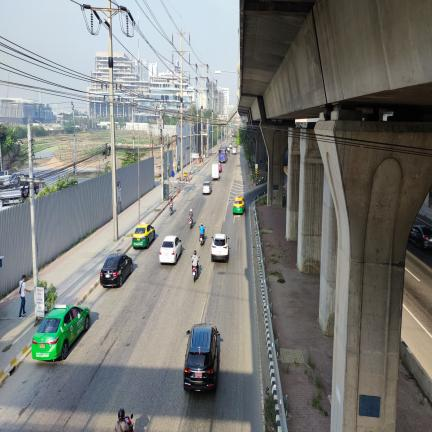bus: (219, 146, 228, 163)
car: (184, 324, 220, 391), (100, 253, 133, 287), (159, 235, 182, 264), (408, 225, 432, 249), (211, 233, 229, 262), (202, 181, 212, 194), (232, 147, 236, 155), (227, 147, 231, 154), (229, 143, 232, 149)
human: (19, 275, 31, 319)
motorbike: (192, 263, 198, 283), (192, 266, 198, 282), (199, 232, 205, 246), (199, 233, 204, 246), (169, 202, 173, 216), (189, 218, 193, 229), (191, 256, 193, 258), (198, 257, 199, 259)
taxi: (32, 305, 90, 360), (132, 224, 155, 249), (233, 197, 245, 214), (219, 163, 222, 173)
truck: (212, 164, 220, 180)
